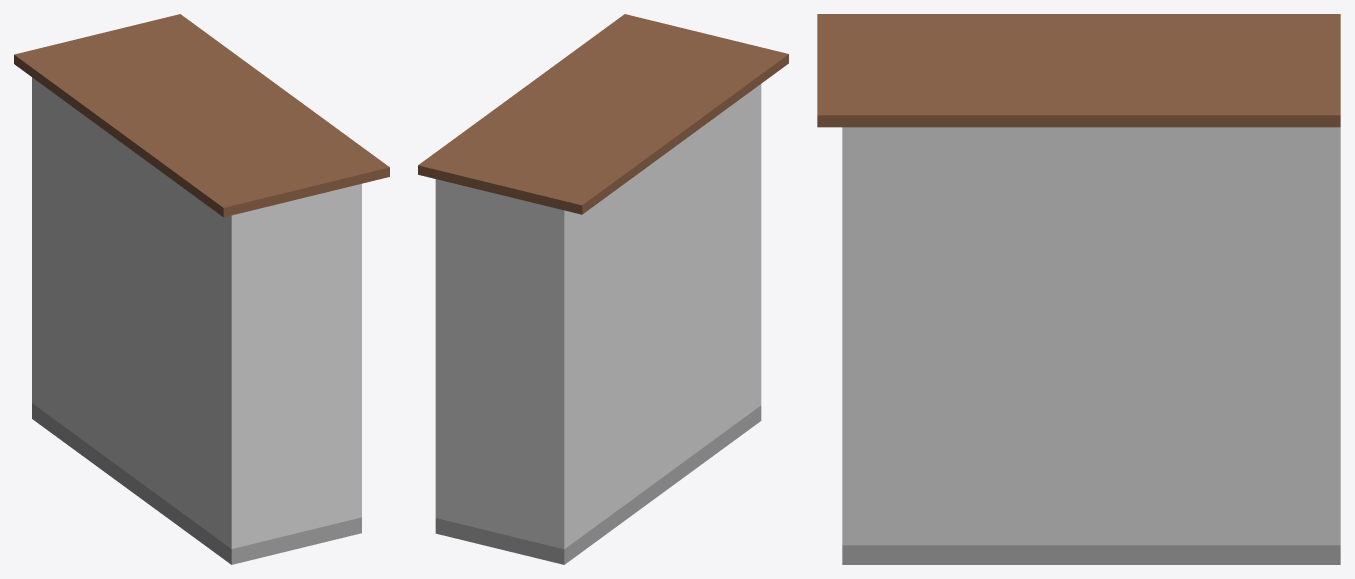
File: Table_07_C3.fbx
3 views of the same model, side by side, from view 1: azimuth 30°, elevation 25°; view 2: azimuth 150°, elevation 25°; view 3: azimuth 270°, elevation 25° (orthographic). The views are drawn at different scales.
Visible parts, largest first — view 1: Table_07_C3; view 2: Table_07_C3; view 3: Table_07_C3.
Part boxes in pixels (<box>): Table_07_C3: <box>14,14,389,564</box>; Table_07_C3: <box>418,14,788,564</box>; Table_07_C3: <box>817,14,1340,564</box>.
Bounding box in the file's own units: 55 × 117 × 120.
